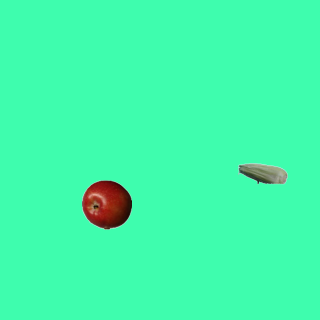Apple Braeburn: (81, 179, 131, 229)
Corn Husk: (237, 148, 287, 198)
